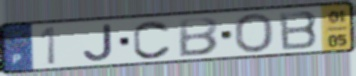1: (39, 25, 58, 66)
B: (176, 15, 221, 58), (277, 9, 321, 52)
C: (132, 19, 174, 60)
J: (81, 22, 116, 63)
O: (232, 12, 276, 54)
